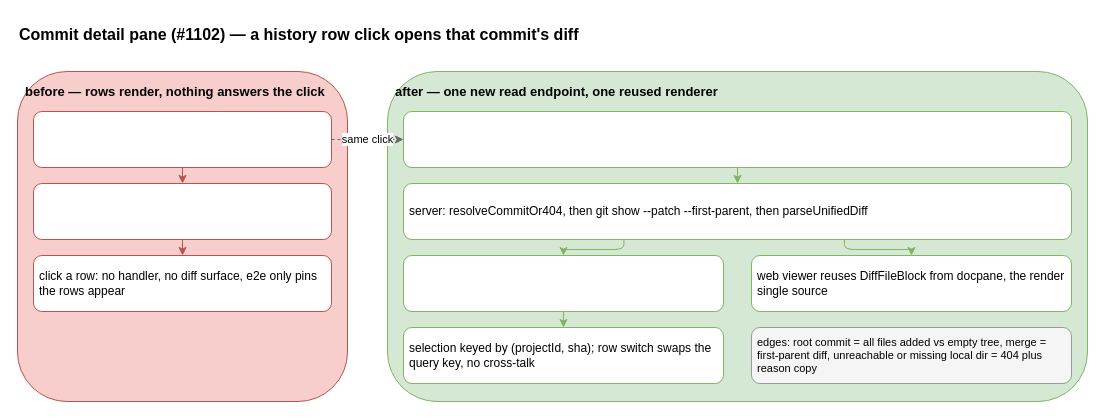
The diagram is 1115 pixels wide and 419 high, and some of its shapes have lost their labels. The centre of each missing label's shape, as x and y in pixels:
history row = static li, read-only by the #149 ruling: the point at 182,139
payload = the five list-row meta fields plus files (DocumentDiffFile[]): the point at 563,283
row becomes a ghost button: click fires GET /api/projects/{id}/commits/{sha}: the point at 737,139
server ships only the commits list endpoint, no per-commit read face: the point at 182,211
